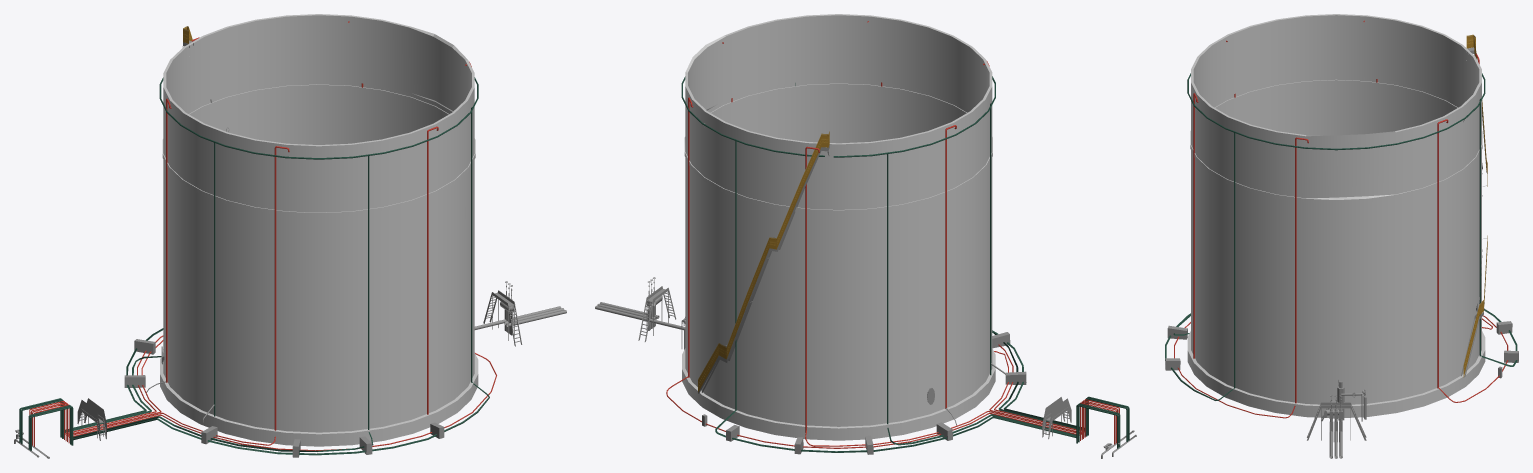
Rendered from guanti_03.FBX.
The picture shows the model from 3 angles, left to right: view 1: azimuth 30°, elevation 25°; view 2: azimuth 150°, elevation 25°; view 3: azimuth 270°, elevation 25°; orthographic projection. The views are drawn at different scales.
Parts seen in each view (by area): view 1: Object01; view 2: Object01; view 3: Object01.
Part boxes in pixels (x1,y1,x2,y2): Object01: [14, 14, 566, 458]; Object01: [595, 14, 1136, 458]; Object01: [1165, 14, 1518, 458].
Size of the model in its own units: 33.13 by 20.22 by 18.6.
